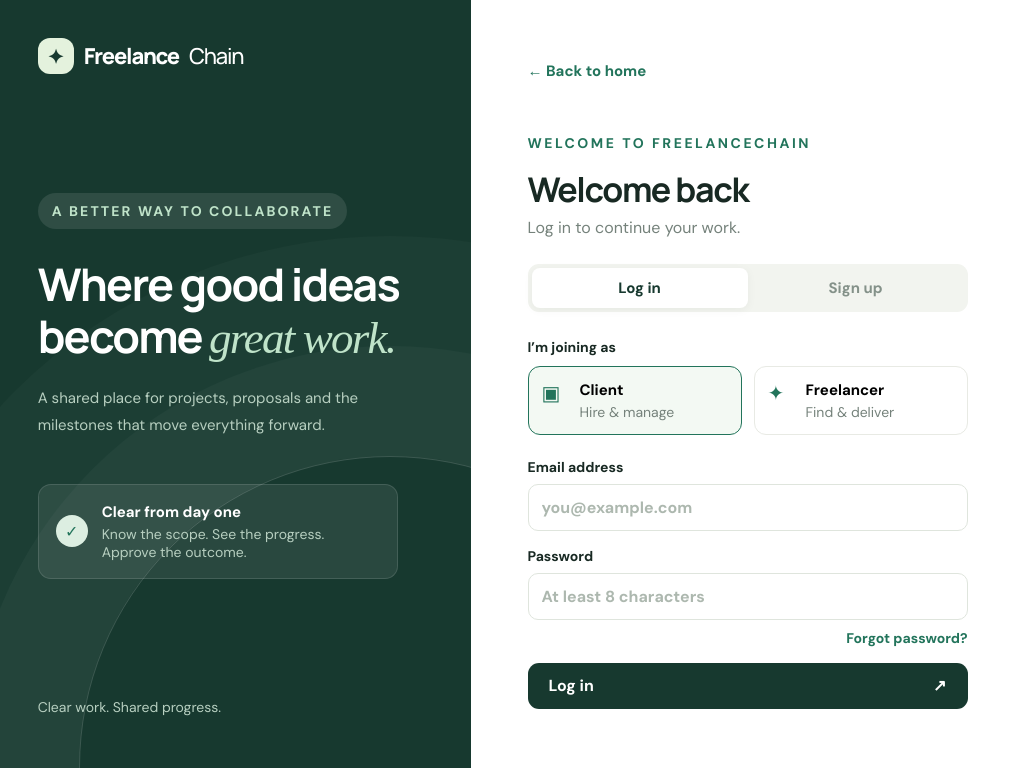
it: login links to a recovery request with a generic confirmation
Click the link "Forgot password?".
click(907, 638)  # box [846, 628, 968, 646]
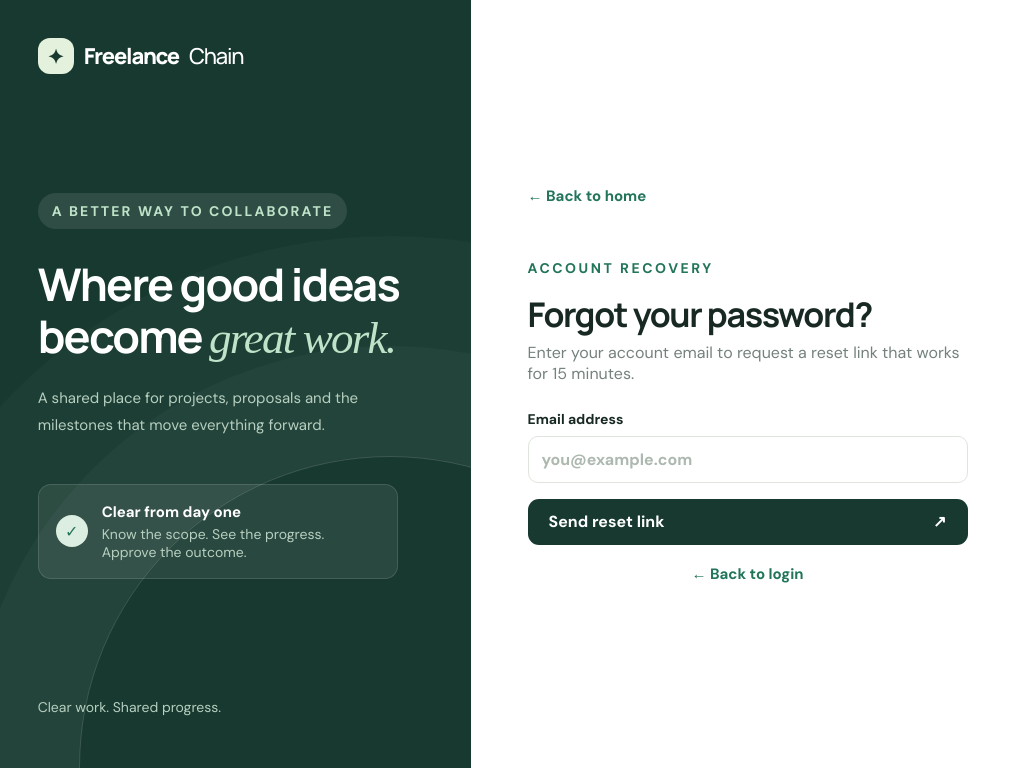
Expected: the heading "Forgot your password?" is shown, [528, 290, 872, 336]
Type "client@example.test" into the field labelled "Email address".
click(748, 459); type("client@example.test")  # box [528, 436, 968, 482]
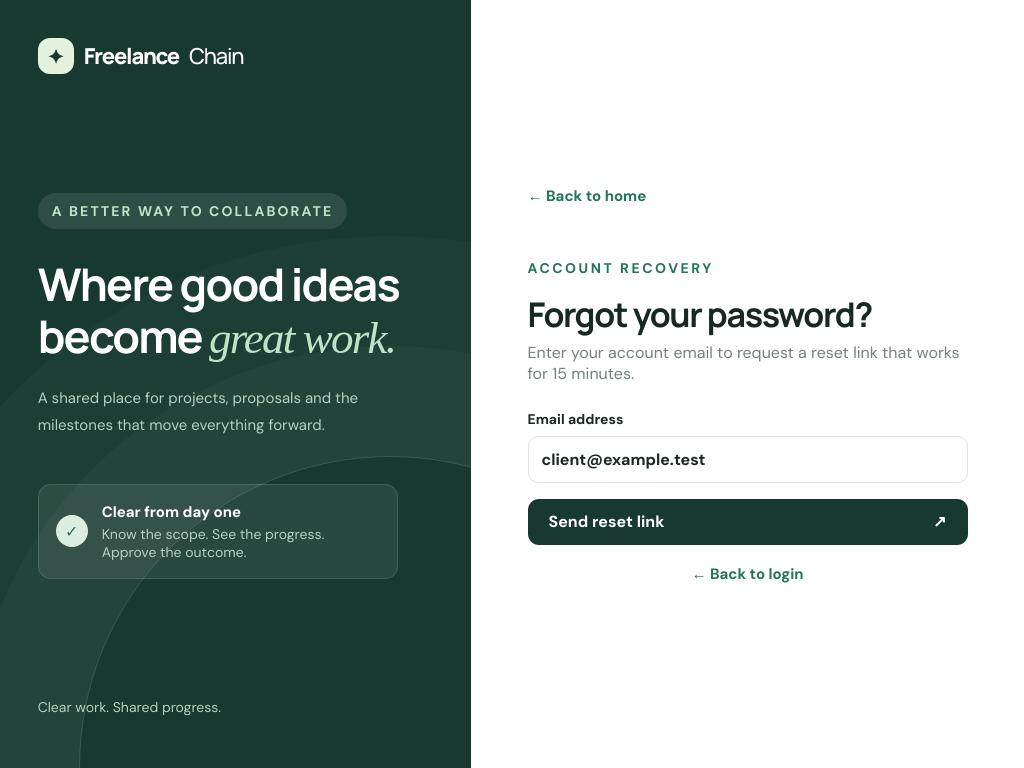
Click the button "Send reset link ↗".
click(606, 522)  # box [528, 498, 968, 544]
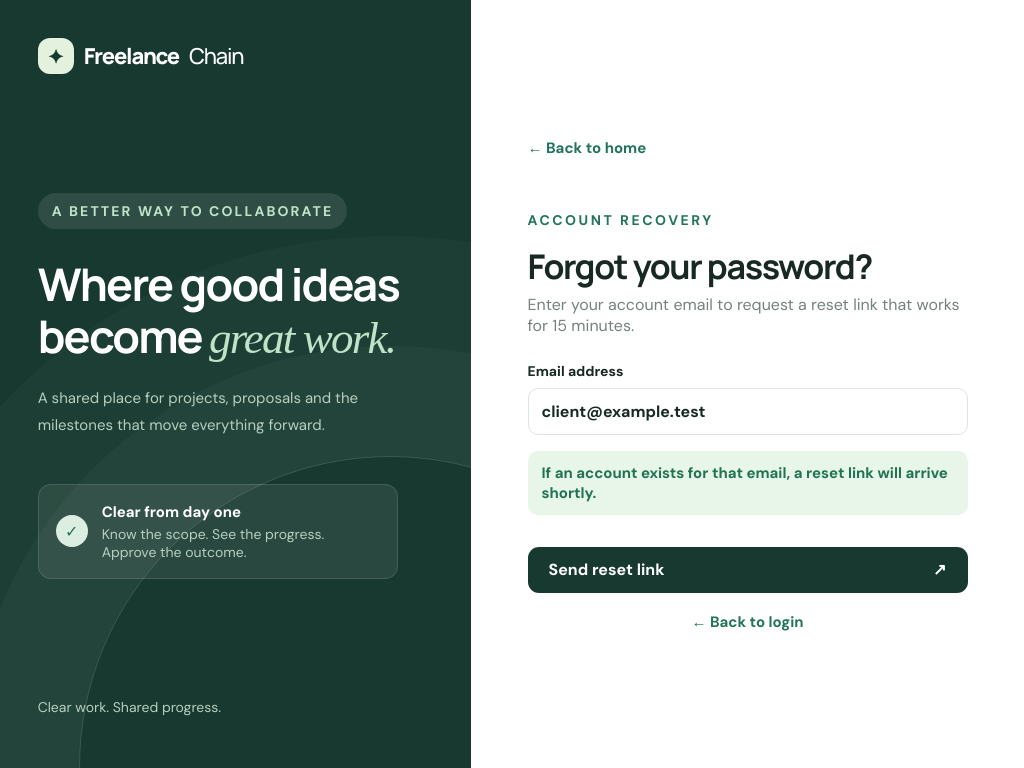
Expected: the message shows "If an account exists", [542, 462, 948, 502]
